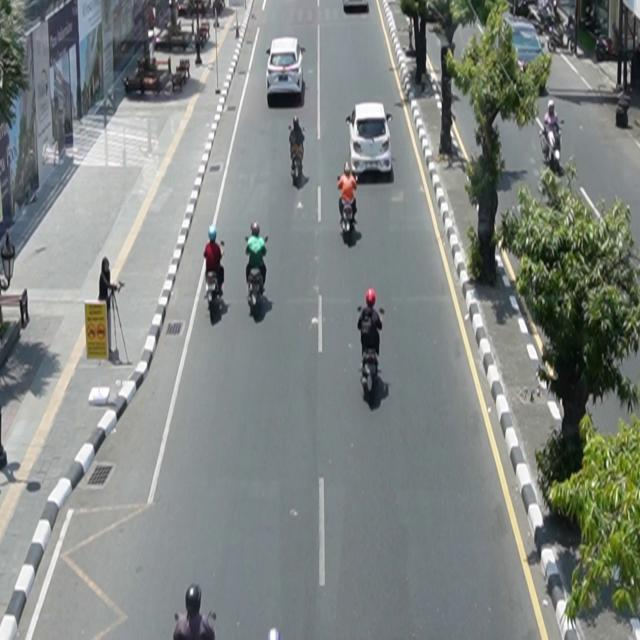car: (498, 16, 549, 96), (346, 102, 394, 177), (267, 37, 307, 98)
